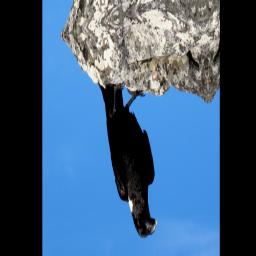Crow: (97, 64, 161, 253)
